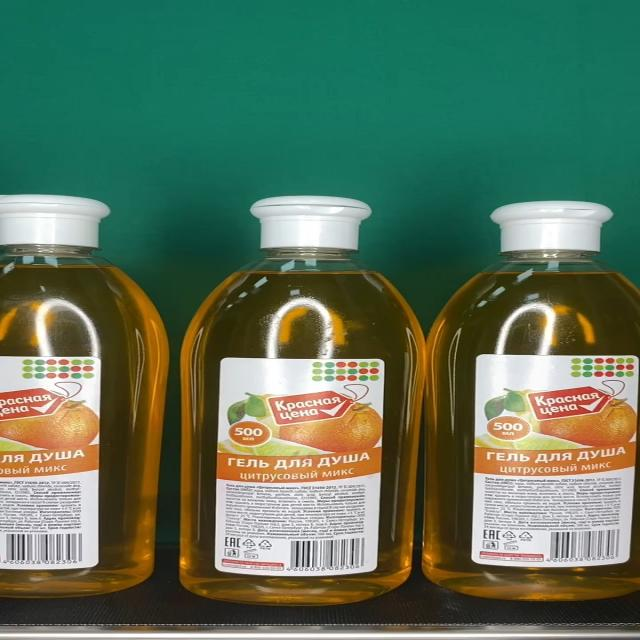Bottle: (178, 195, 426, 604), (422, 200, 640, 600)
Cap: (489, 200, 613, 253), (249, 196, 372, 249)
